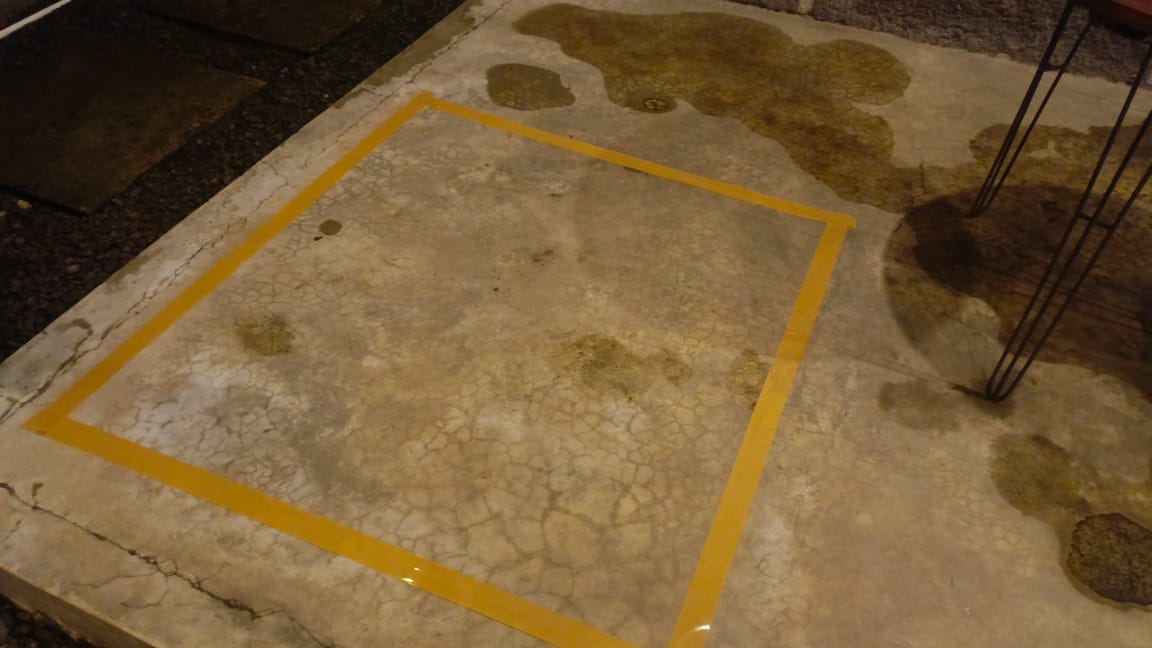floor marking: (21, 92, 854, 638)
